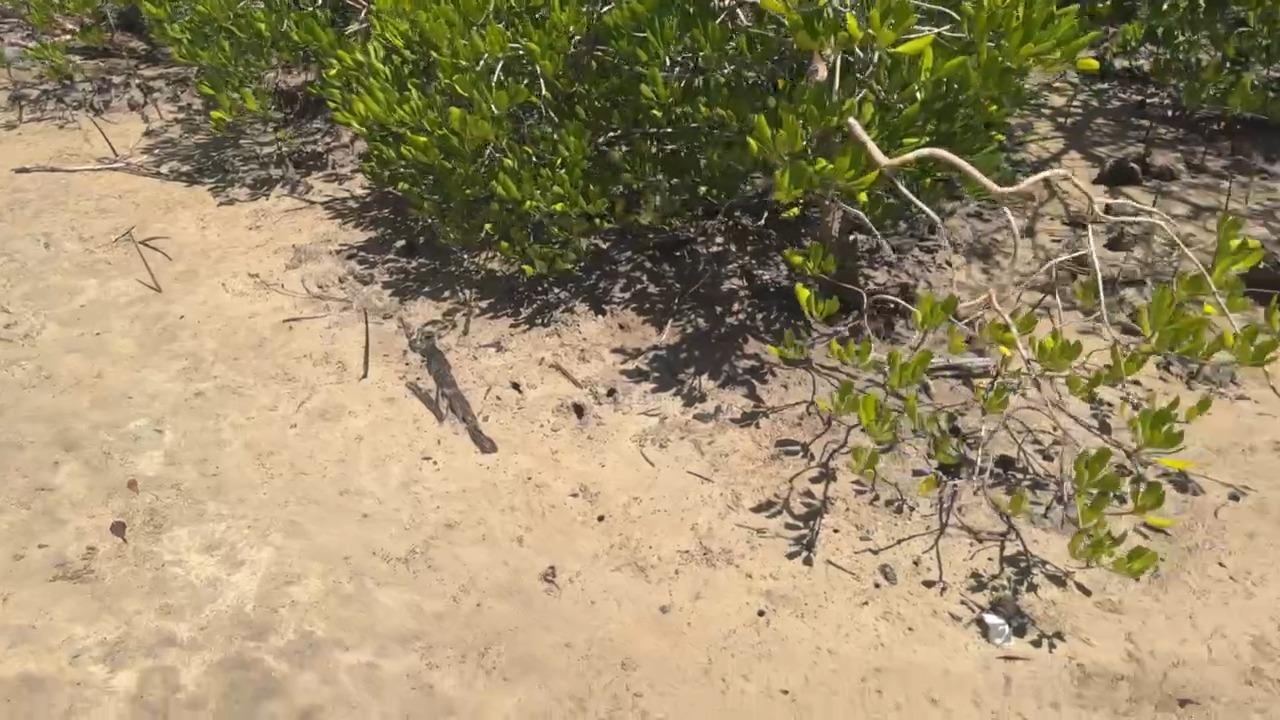Tree: (128, 229, 163, 296), (90, 117, 121, 158), (140, 91, 164, 123), (360, 307, 371, 375), (460, 288, 475, 337), (1225, 176, 1233, 209), (1152, 192, 1157, 209)
